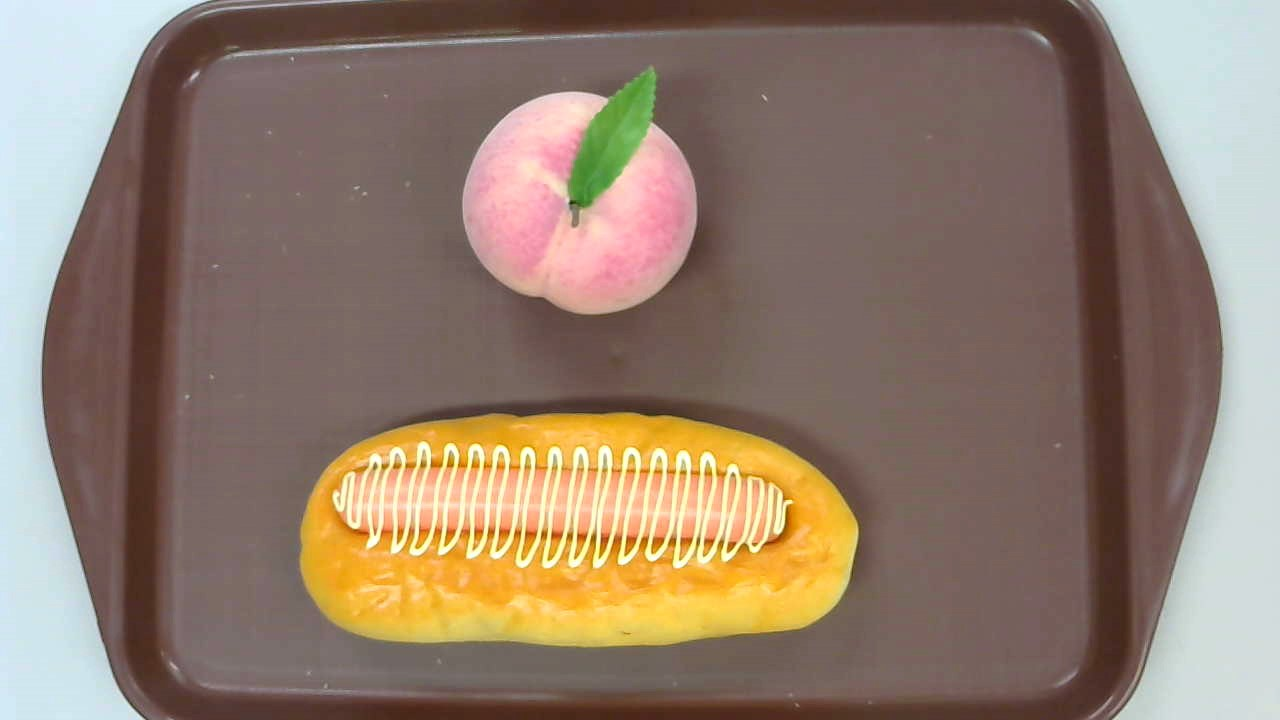hot dog: (299, 412, 859, 645)
peach: (460, 65, 697, 317)
